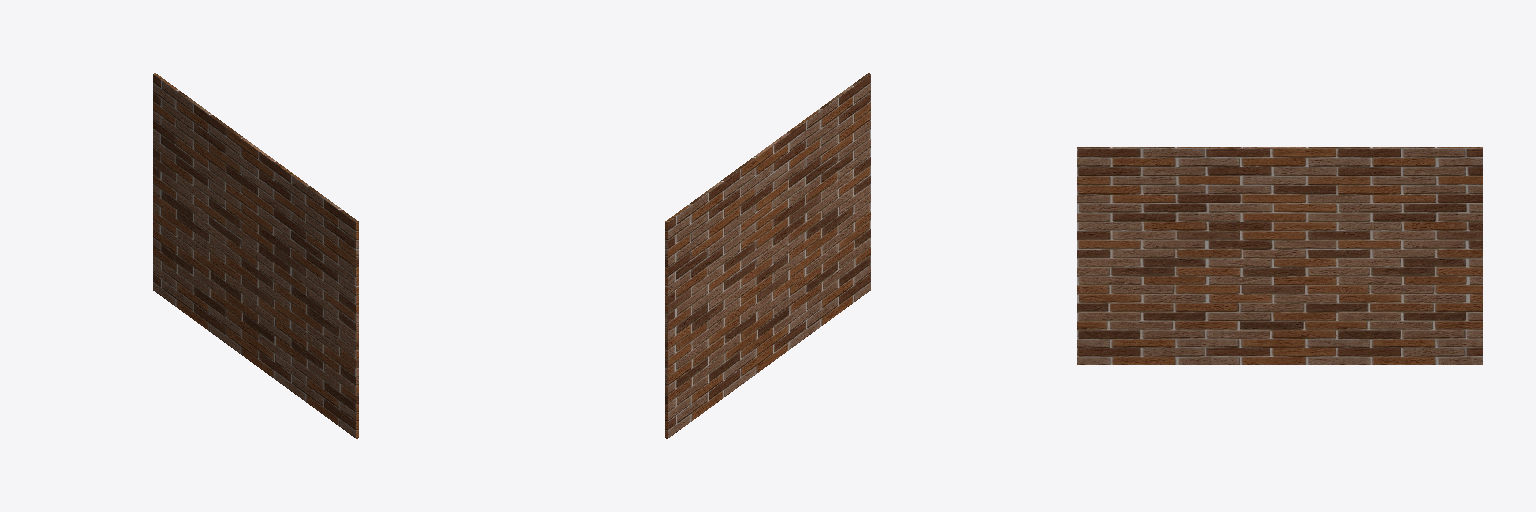
3 views of the same model, side by side, from view 1: azimuth 30°, elevation 25°; view 2: azimuth 150°, elevation 25°; view 3: azimuth 270°, elevation 25° (orthographic).
Visible parts, largest first — view 1: pCube1; view 2: pCube1; view 3: pCube1.
Boxes of the visible parts, box(x1,y1,x2,y2) form: pCube1: box(153, 73, 358, 438); pCube1: box(665, 73, 870, 438); pCube1: box(1077, 147, 1482, 364).
Size of the model in its own units: 0.0585 by 4.2 by 7.14.
1 materials, 1 textured.